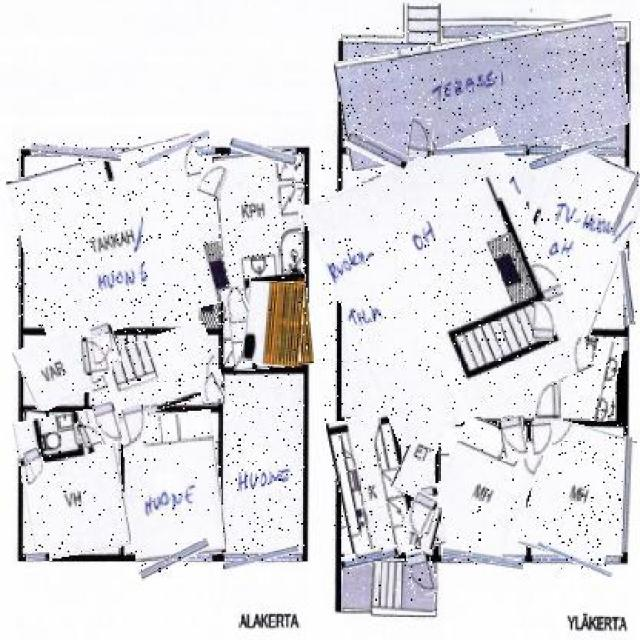door: (409, 549, 437, 594), (406, 492, 436, 534), (80, 335, 112, 374), (92, 323, 119, 363), (500, 417, 526, 458), (197, 163, 228, 197), (95, 402, 120, 444), (408, 118, 434, 157), (532, 302, 556, 340), (125, 406, 149, 443), (534, 384, 560, 418), (223, 286, 248, 319), (78, 422, 102, 452), (532, 420, 552, 455), (199, 374, 223, 401), (26, 446, 45, 476)
window: (529, 142, 620, 163), (138, 546, 211, 572), (345, 137, 409, 166), (135, 137, 211, 160), (536, 549, 616, 569), (229, 142, 297, 162), (442, 552, 523, 568), (618, 170, 637, 236), (31, 146, 120, 159), (223, 550, 300, 564), (340, 548, 398, 566), (430, 146, 528, 156), (623, 437, 631, 554), (622, 249, 632, 325), (26, 552, 49, 563), (623, 337, 628, 351)
zone: (321, 142, 574, 432), (16, 143, 224, 335), (338, 26, 628, 160), (514, 150, 638, 332), (218, 151, 308, 369), (332, 409, 442, 557), (17, 411, 126, 557), (429, 420, 537, 560), (222, 372, 304, 554), (526, 422, 629, 562), (125, 412, 222, 558), (86, 329, 222, 418), (342, 558, 436, 614), (557, 336, 620, 418), (19, 332, 86, 408), (245, 282, 303, 366), (397, 418, 440, 496), (405, 503, 440, 549), (50, 412, 82, 454), (22, 411, 44, 451)
